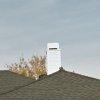Chimney: (40, 31, 63, 84)
